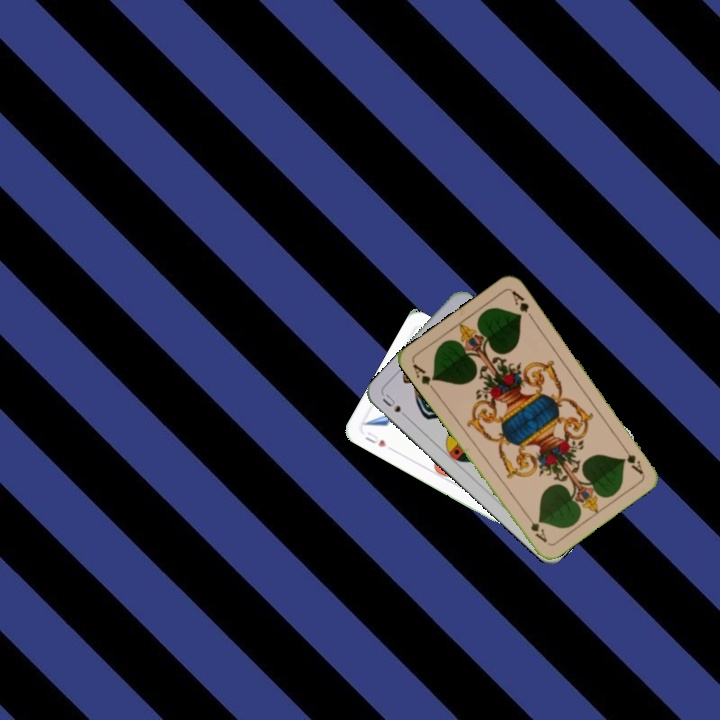GA: (617, 441, 646, 477), (409, 360, 438, 395)
HU: (361, 427, 389, 450)
SU: (378, 390, 412, 422)
